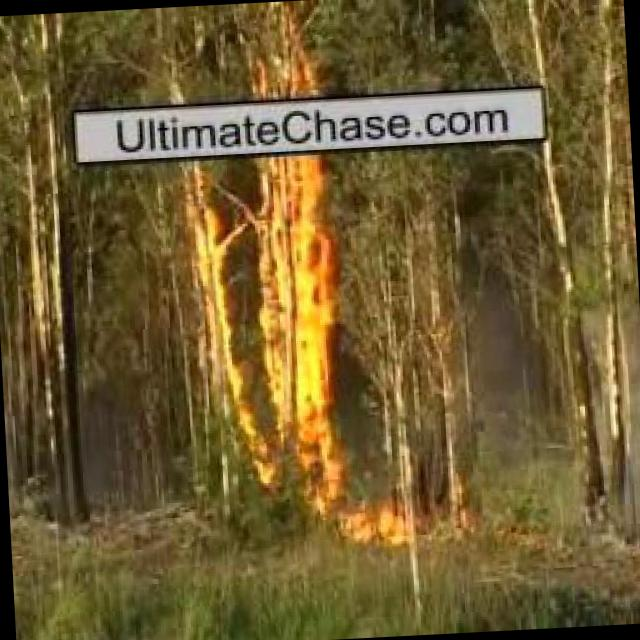Fire: (189, 160, 361, 506), (19, 152, 91, 420), (244, 15, 325, 99), (327, 504, 421, 557)
